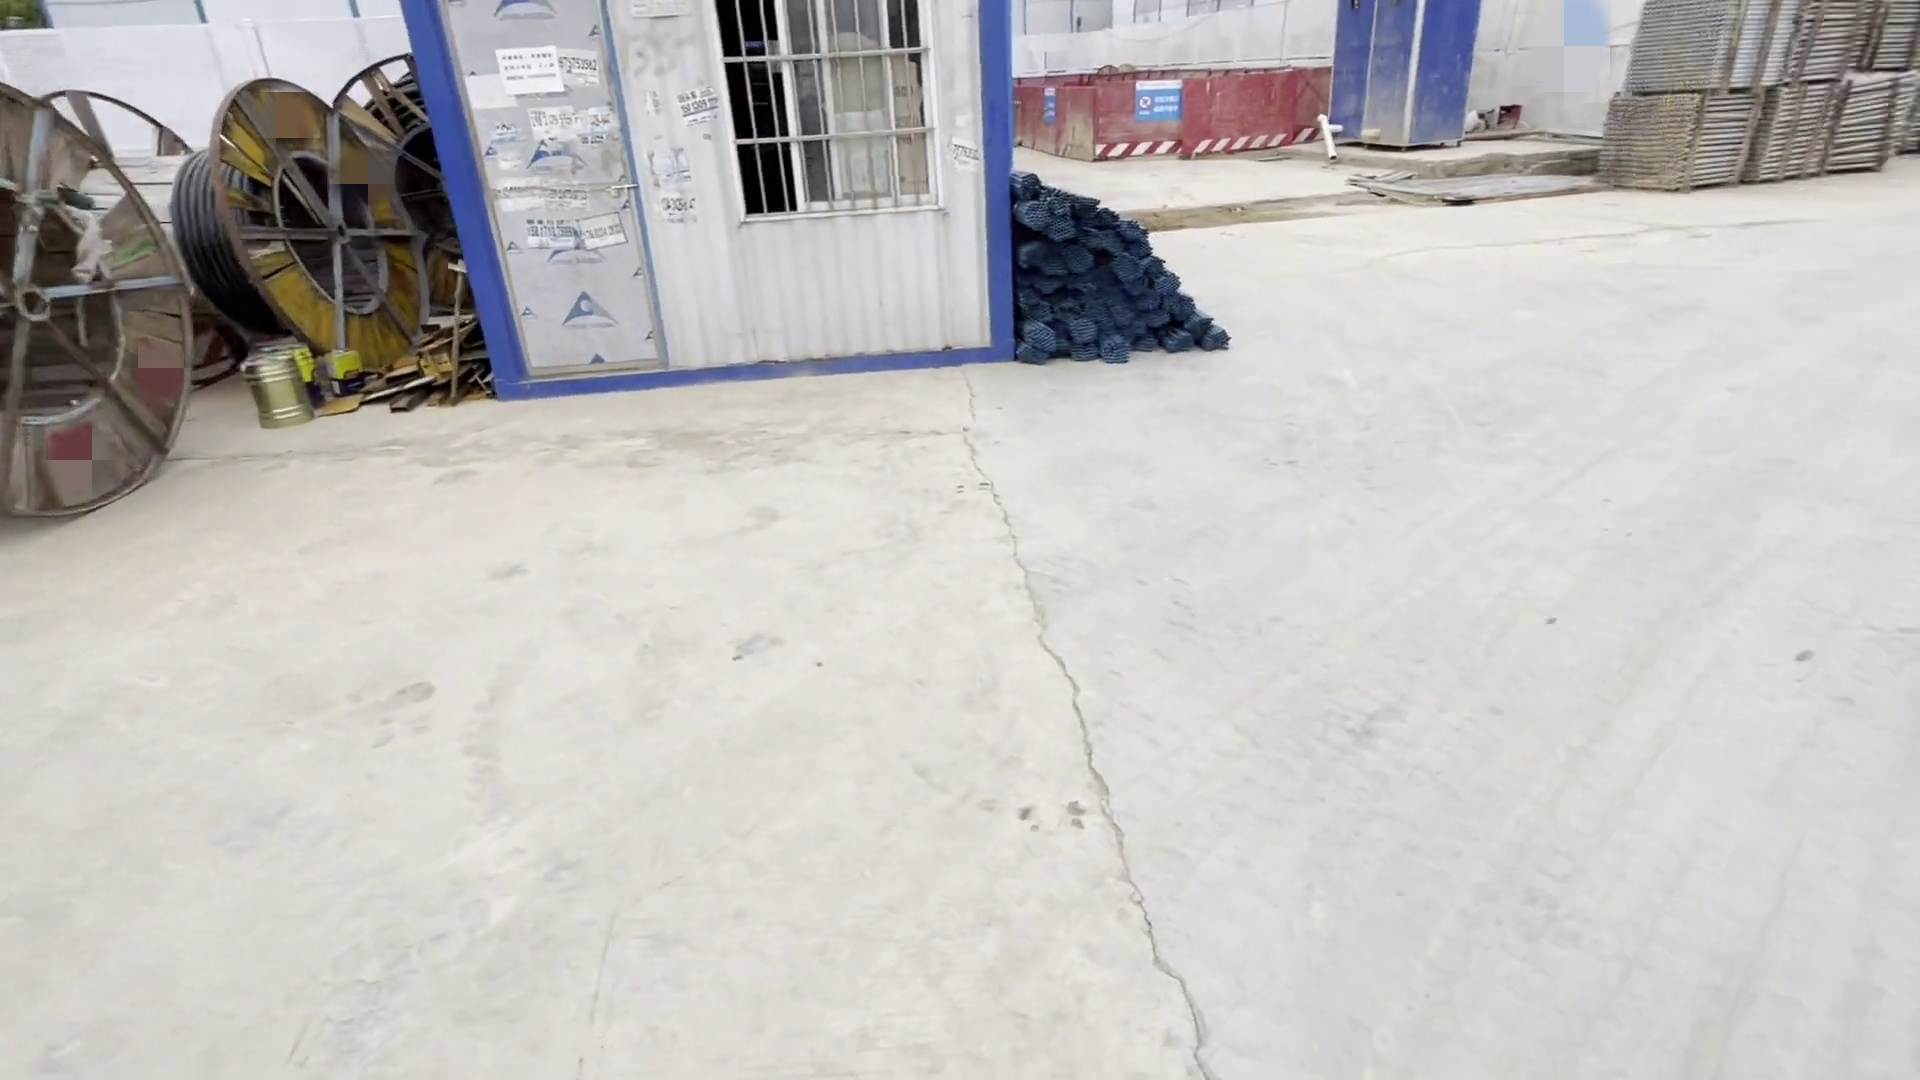fence: (1011, 65, 1358, 181)
